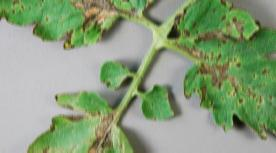Tomato Septoria leaf spot: (171, 0, 276, 153), (0, 0, 162, 58), (13, 89, 144, 153)
